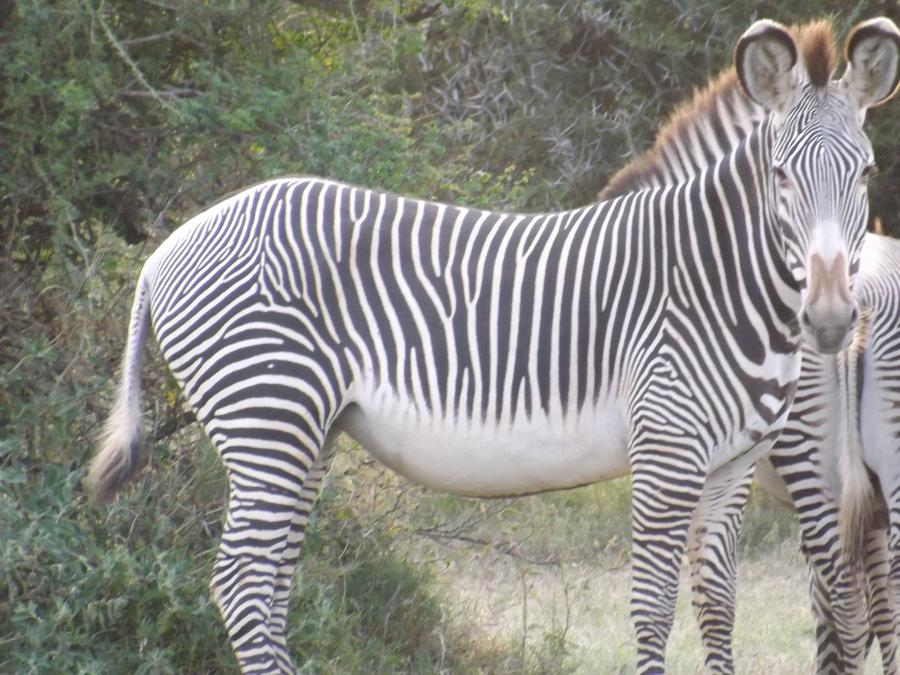zebra_grevys: (118, 140, 741, 460)
